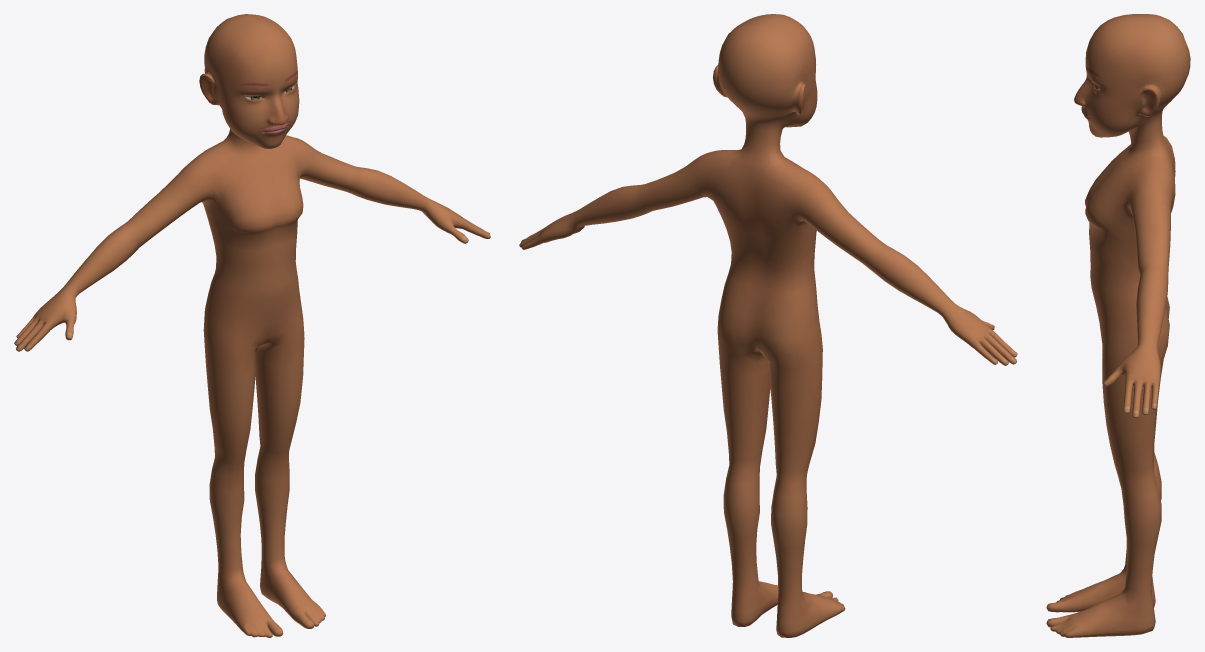
File: frame_0050.glb
The picture shows the model from 3 angles, left to right: view 1: azimuth 30°, elevation 25°; view 2: azimuth 150°, elevation 25°; view 3: azimuth 270°, elevation 25°; orthographic projection. The views are drawn at different scales.
Visible parts, largest first — view 1: frame_0050_head_geo; view 2: frame_0050_head_geo; view 3: frame_0050_head_geo.
Part boxes in pixels (left/top/right/bottom): frame_0050_head_geo: left=14, top=14, right=490, bottom=637; frame_0050_head_geo: left=519, top=14, right=1017, bottom=637; frame_0050_head_geo: left=1046, top=14, right=1190, bottom=637.
Bounding box in the file's own units: 1.28 × 1.5 × 0.3253.
3 materials, 3 textured.
